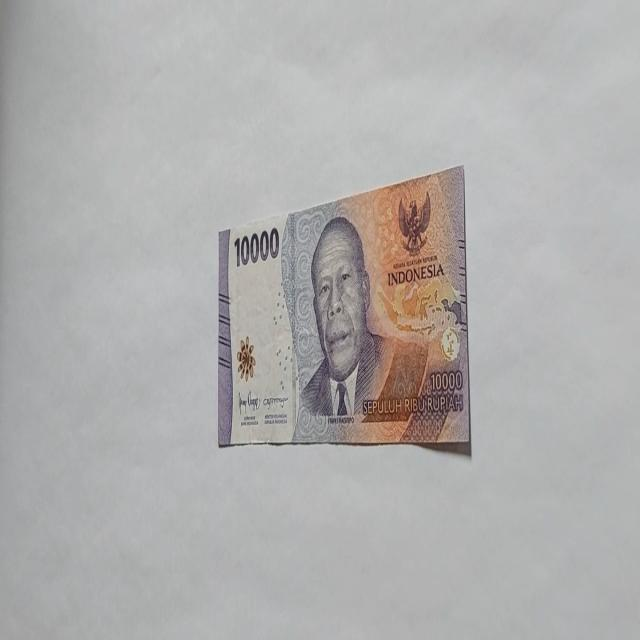sepuluh ribu rupiah: (216, 164, 472, 452), (294, 215, 396, 430)
